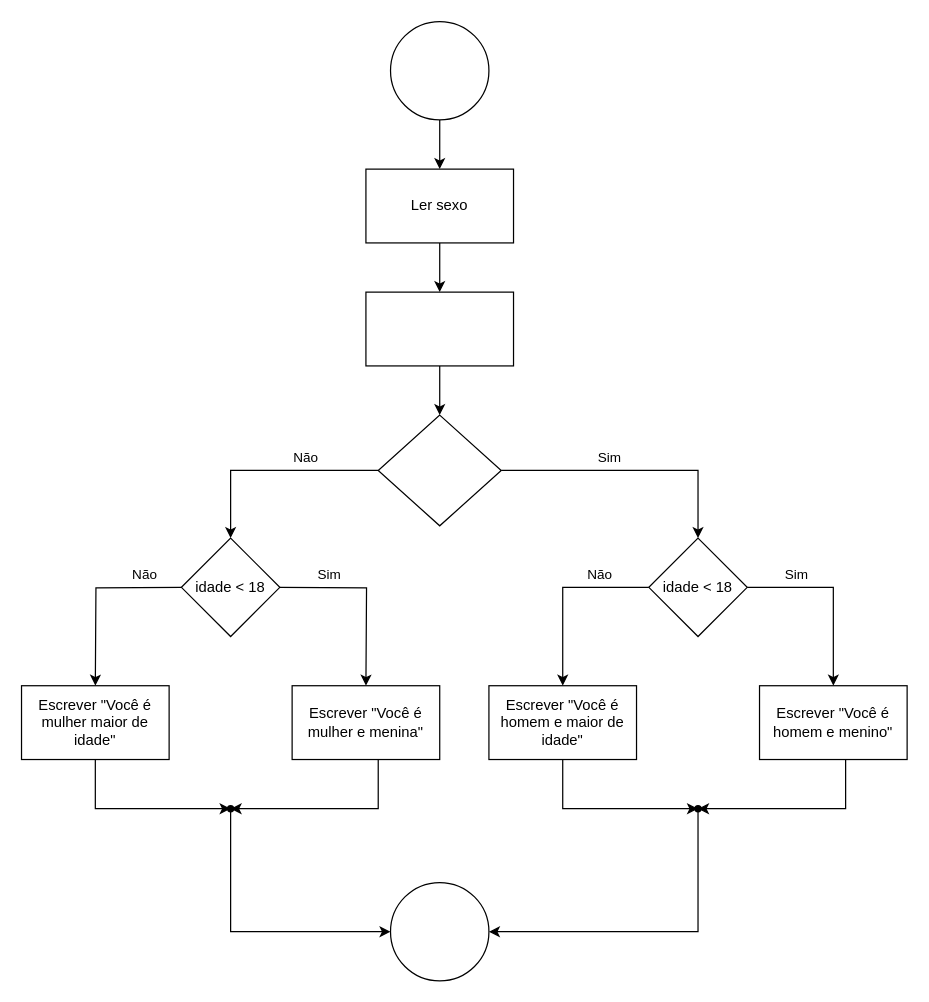
This 929x1002 diagram has some shape labels left out. Here are the shapes that lost their labels. From the top down, the centre of each, then its label:
At (439,70): "Início".
At (439,328): "Ler idade".
At (439,470): "sexo = homem".
At (439,931): "Fim".
